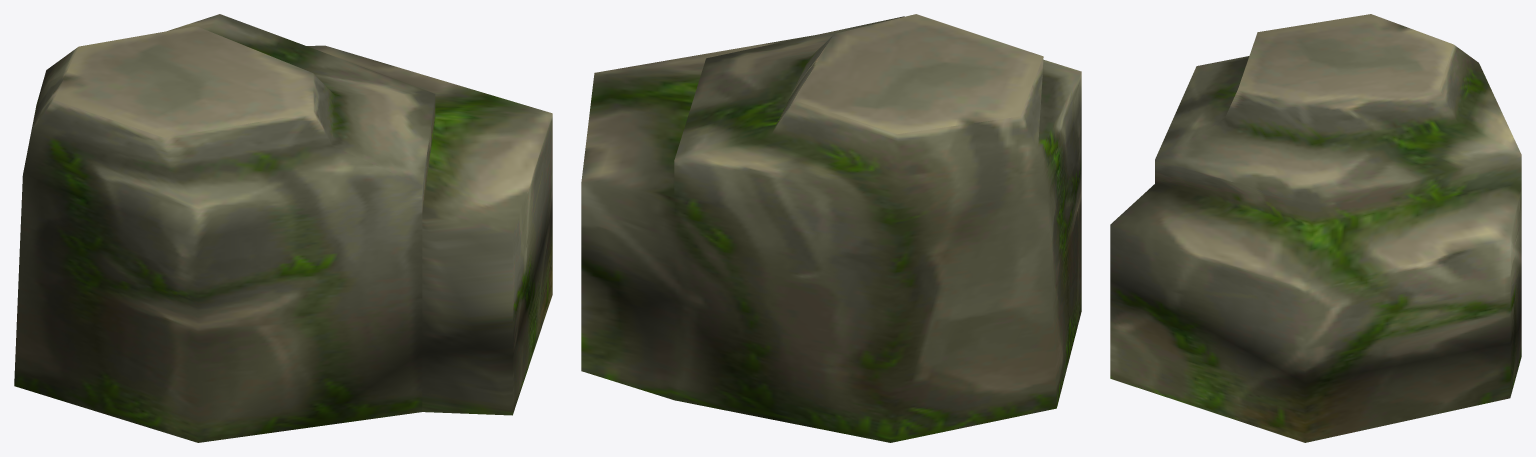
The model's file is RockFormation_4_5 (48).fbx.
The picture shows the model from 3 angles, left to right: view 1: azimuth 30°, elevation 25°; view 2: azimuth 150°, elevation 25°; view 3: azimuth 270°, elevation 25°; orthographic projection. The views are drawn at different scales.
Parts seen in each view (by area): view 1: RockFormation_4_5 (48); view 2: RockFormation_4_5 (48); view 3: RockFormation_4_5 (48).
Part boxes in pixels (left/top/right/bottom): RockFormation_4_5 (48): left=14, top=14, right=552, bottom=442; RockFormation_4_5 (48): left=581, top=14, right=1081, bottom=442; RockFormation_4_5 (48): left=1110, top=14, right=1521, bottom=442.
Bounding box in the file's own units: 265 × 141 × 222.
